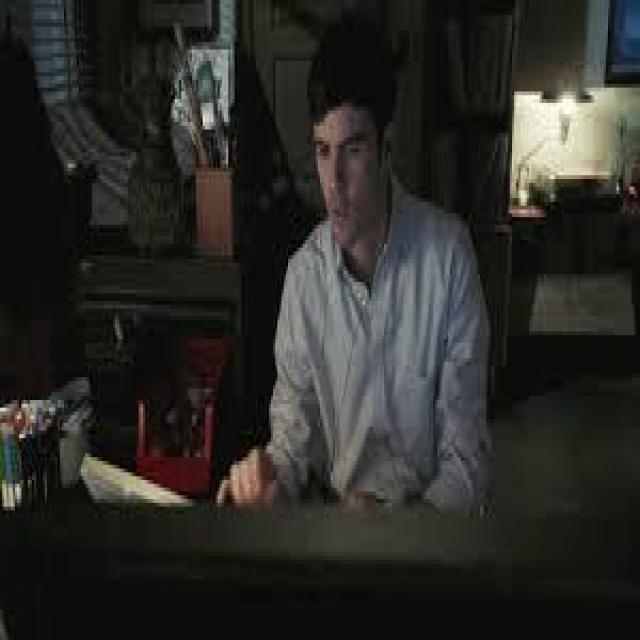person: (234, 0, 486, 552)
